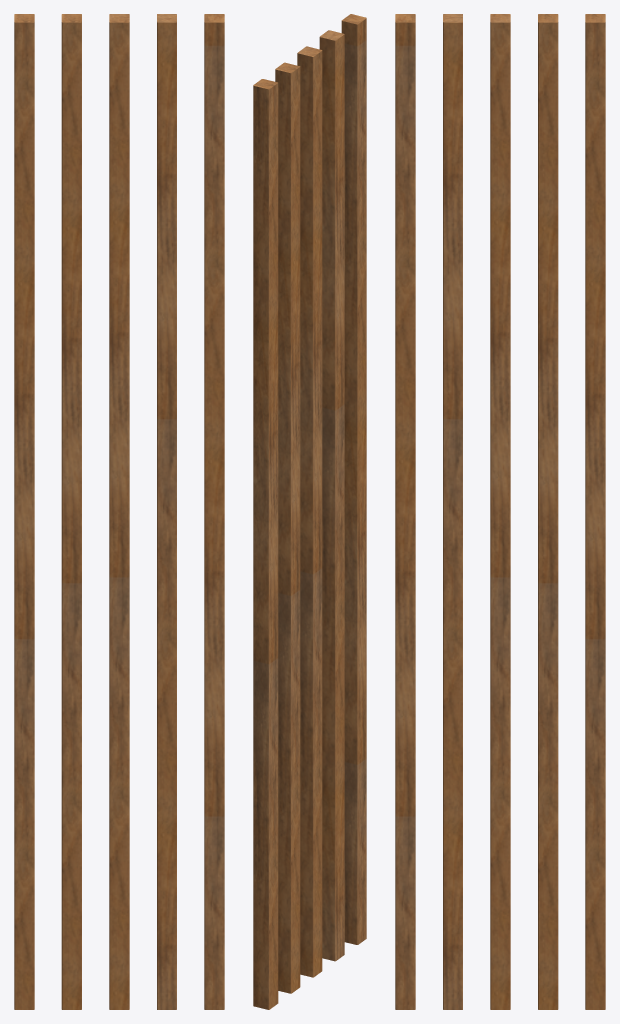
The model's file is SM_Office_wall01ai.fbx.
3 views of the same model, side by side, from view 1: azimuth 90°, elevation 25°; view 2: azimuth 150°, elevation 25°; view 3: azimuth 270°, elevation 25° (orthographic). The views are drawn at different scales.
Parts seen in each view (by area): view 1: SM_Office_wall01ai_LOD0; view 2: SM_Office_wall01ai_LOD0; view 3: SM_Office_wall01ai_LOD0.
Part boxes in pixels (left/top/right/bottom): SM_Office_wall01ai_LOD0: left=14, top=14, right=224, bottom=1009; SM_Office_wall01ai_LOD0: left=253, top=14, right=366, bottom=1009; SM_Office_wall01ai_LOD0: left=395, top=14, right=605, bottom=1009.
Size of the model in its own units: 11.71 by 122 by 630.
